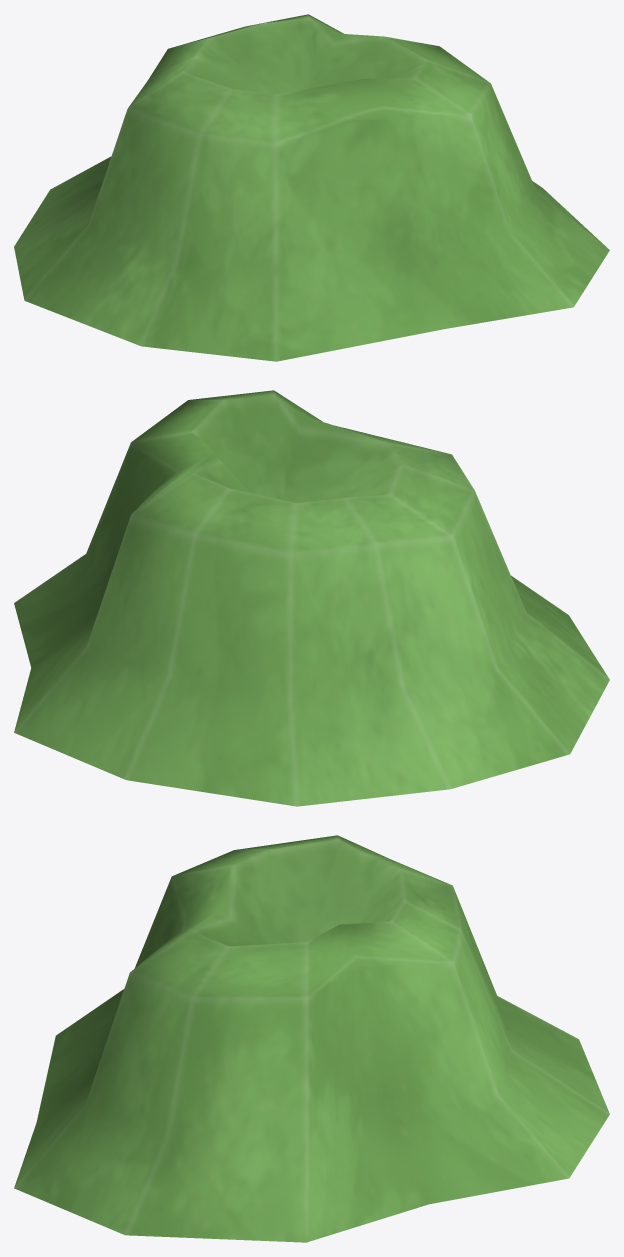
The model's file is env_Terran_Hill_D.FBX.
3 views of the same model, one above another, from view 1: azimuth 30°, elevation 25°; view 2: azimuth 150°, elevation 25°; view 3: azimuth 270°, elevation 25° (orthographic). The views are drawn at different scales.
Visible parts, largest first — view 1: env_Terran_Hill_D; view 2: env_Terran_Hill_D; view 3: env_Terran_Hill_D.
Part boxes in pixels (x1,y1,x2,y2): env_Terran_Hill_D: (14,14,609,361); env_Terran_Hill_D: (14,390,609,806); env_Terran_Hill_D: (14,835,609,1242).
Bounding box in the file's own units: 1867 × 673 × 1701.
